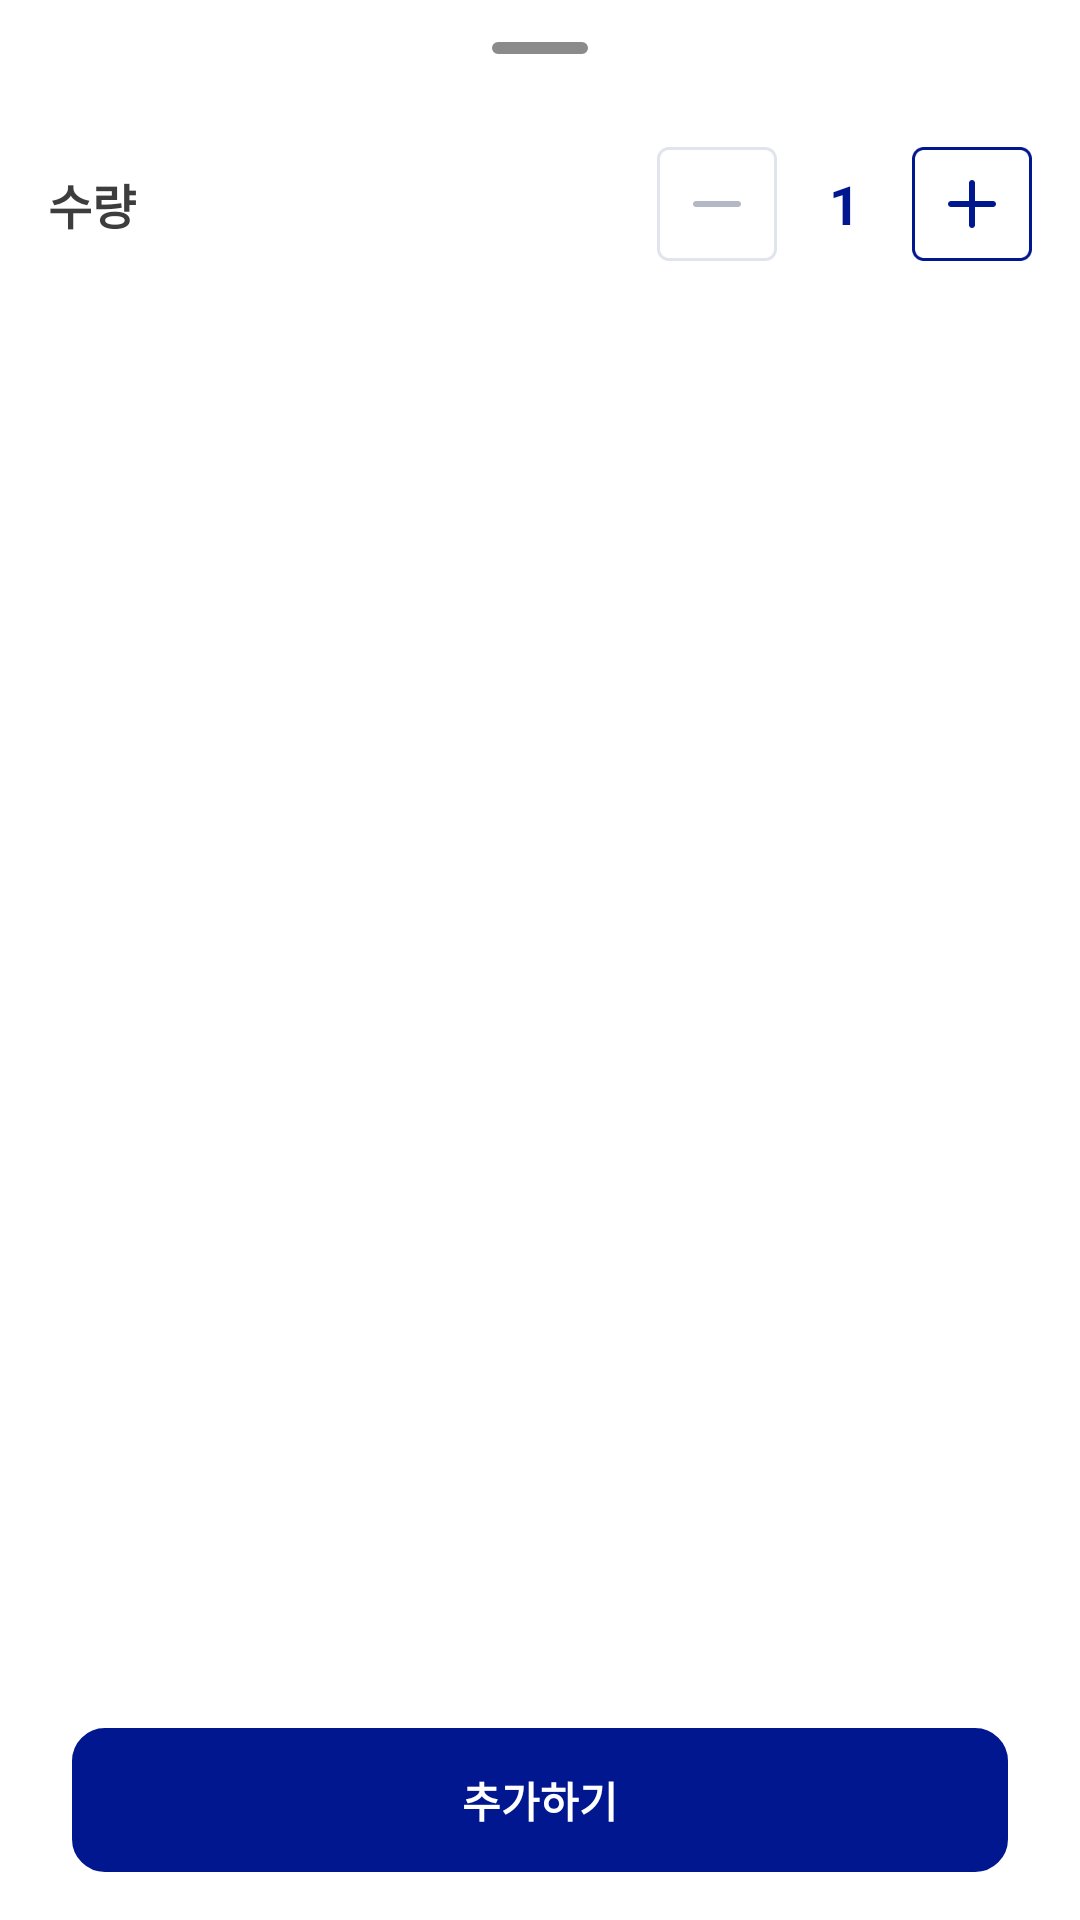

Locate icon controls on the screen. Image size 1080 x 1920, boxes as (x1, y1, x2, y2).
plus: (948, 180, 996, 228)
